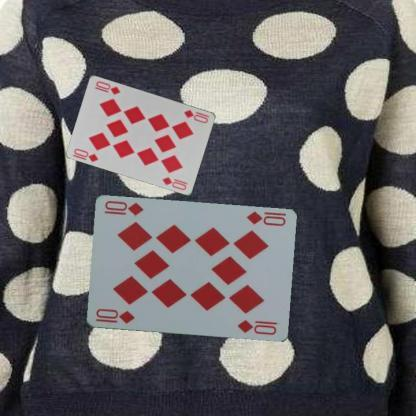10d: (92, 306, 136, 326), (243, 209, 287, 228), (72, 146, 100, 164), (182, 107, 210, 124)
